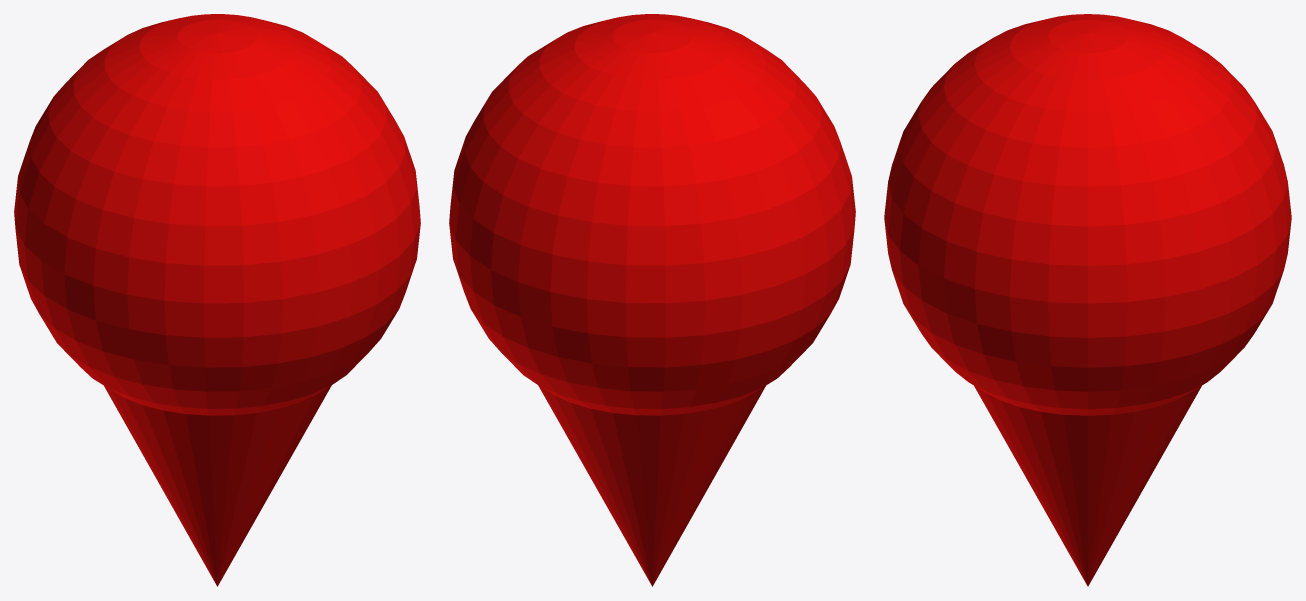
Rendered from pin.glb.
3 renders of one model, left to right at view 1: azimuth 30°, elevation 25°; view 2: azimuth 150°, elevation 25°; view 3: azimuth 270°, elevation 25°, orthographic.
Visible parts, largest first — view 1: Pin; view 2: Pin; view 3: Pin.
Boxes of the visible parts, box(x1,y1,x2,y2) form: Pin: box(14, 14, 420, 586); Pin: box(449, 14, 855, 586); Pin: box(884, 14, 1291, 586).
Size of the model in its own units: 0.4 by 0.6 by 0.4.
